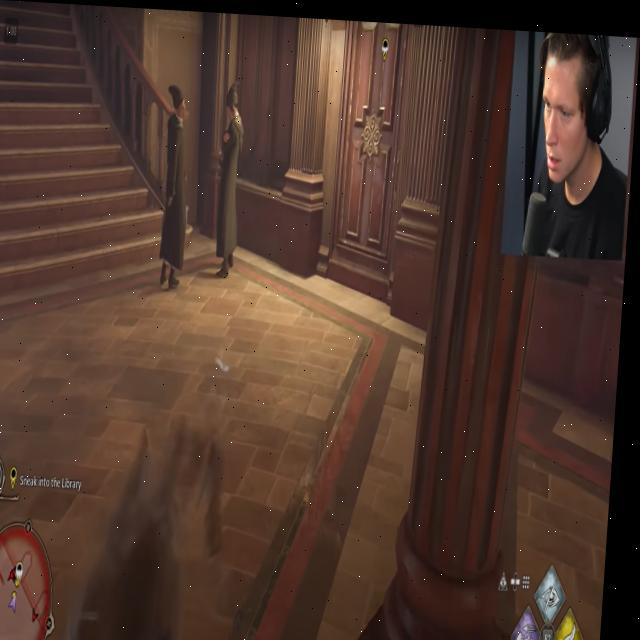compass: (15, 465, 25, 492), (380, 32, 390, 58), (23, 559, 32, 587)
